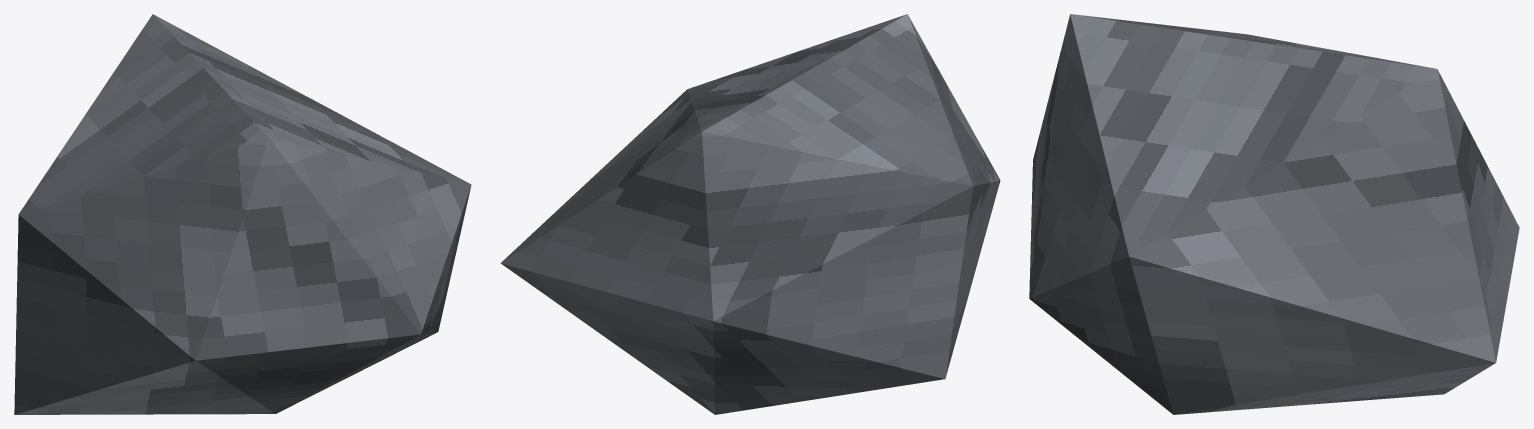
Rendered from roca.glb.
3 renders of one model, left to right at view 1: azimuth 30°, elevation 25°; view 2: azimuth 150°, elevation 25°; view 3: azimuth 270°, elevation 25°, orthographic. The views are drawn at different scales.
Parts seen in each view (by area): view 1: roca; view 2: roca; view 3: roca.
Boxes of the visible parts, left/top/right/bottom form: roca: left=14, top=14, right=471, bottom=414; roca: left=500, top=14, right=1000, bottom=414; roca: left=1029, top=14, right=1519, bottom=414.
Size of the model in its own units: 1.8 by 1.38 by 1.71.
1 material, 1 textured.
